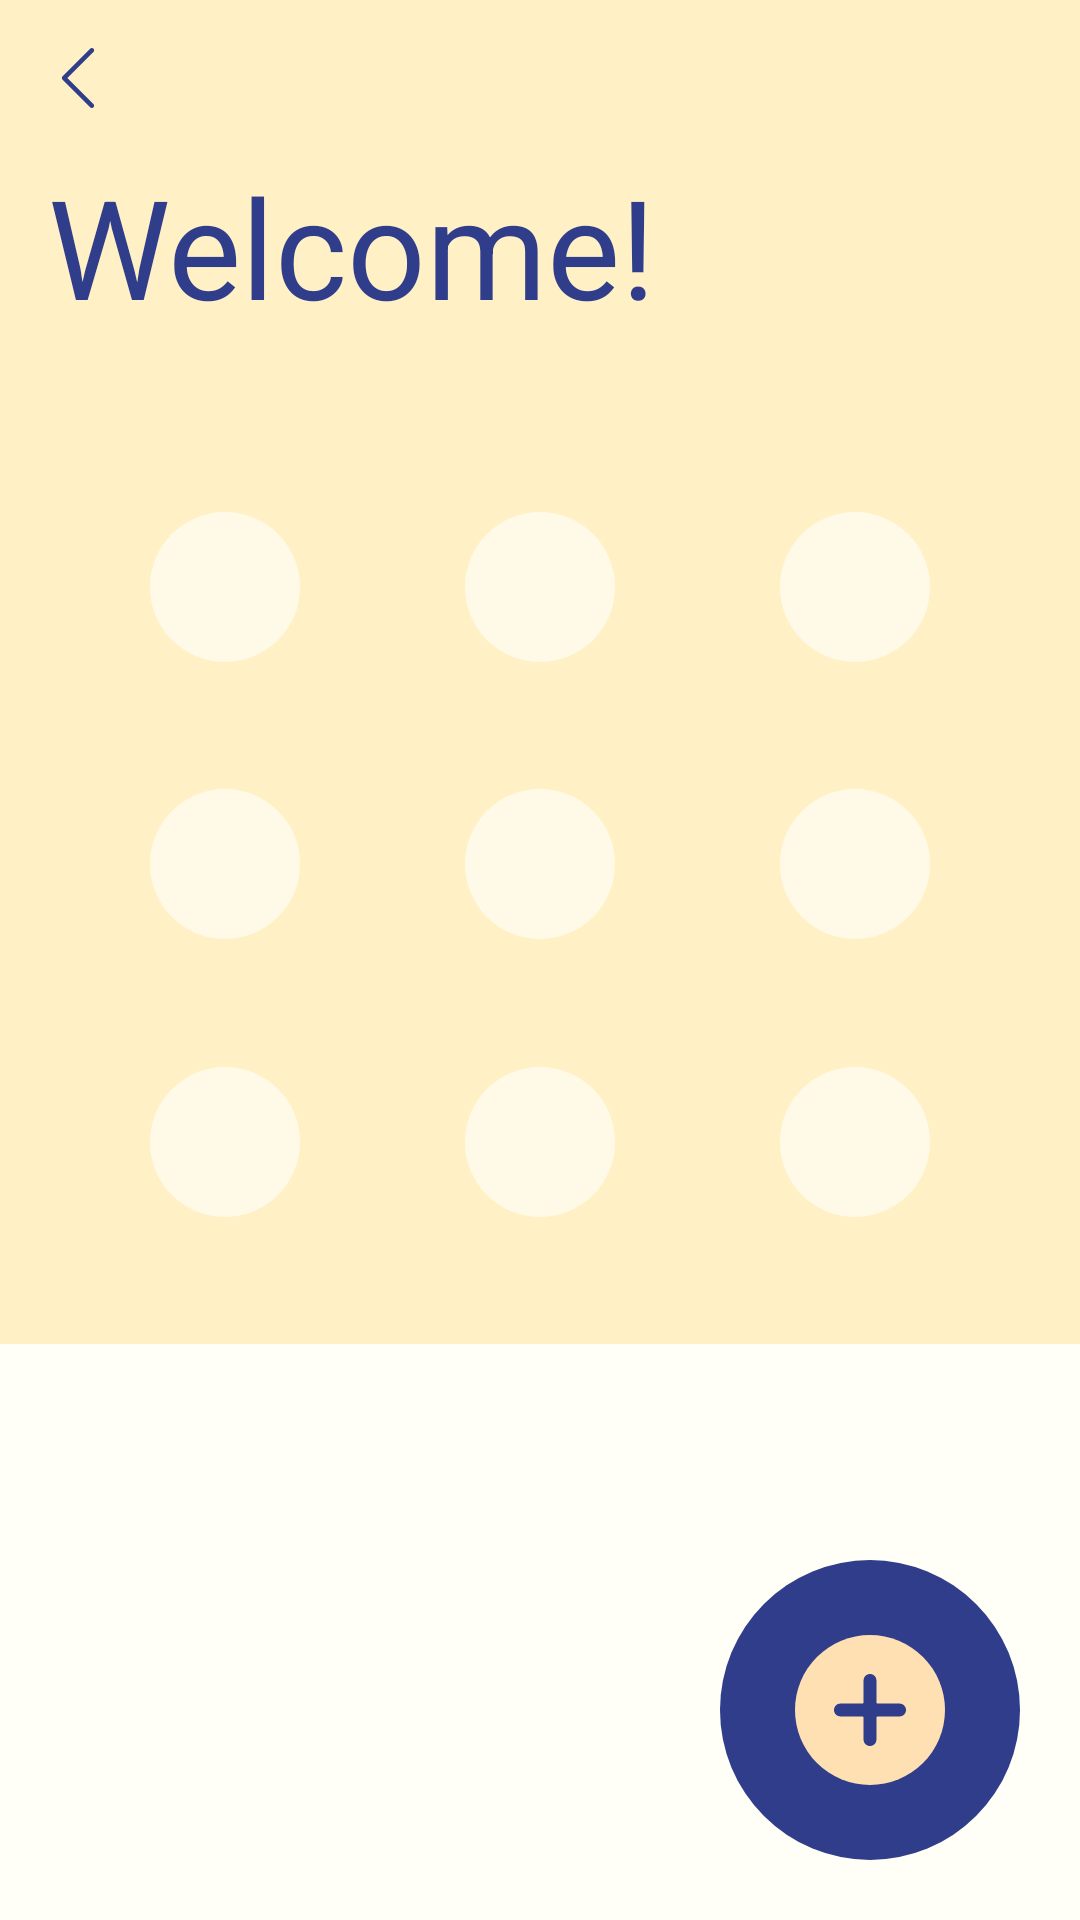

Screen size 1080x1920. Icon name, then its center in pixels as (x,y):
back: (78,78)
